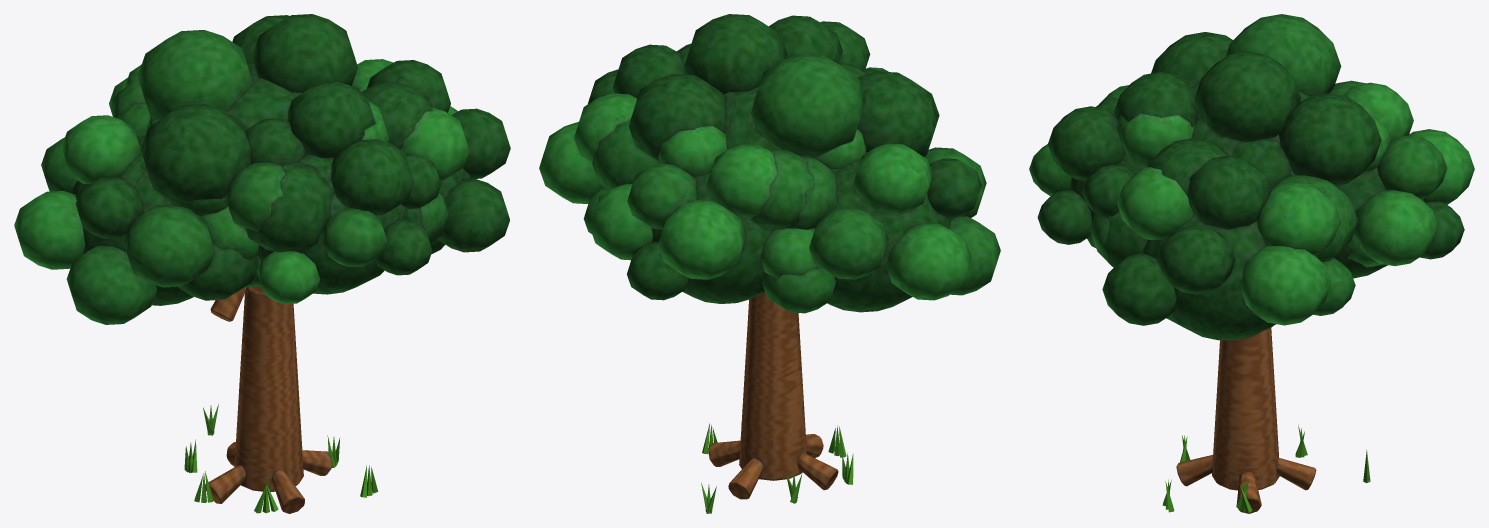
File: carob_tree.glb
3 views of the same model, side by side, from view 1: azimuth 30°, elevation 25°; view 2: azimuth 150°, elevation 25°; view 3: azimuth 270°, elevation 25° (orthographic). The views are drawn at different scales.
Visible parts, largest first — view 1: crown, carob_tree; view 2: crown, carob_tree; view 3: crown, carob_tree.
Part boxes in pixels (<box>): crown: <box>14,14,510,324</box>; carob_tree: <box>184,286,378,513</box>; crown: <box>539,14,1000,313</box>; carob_tree: <box>701,292,853,513</box>; crown: <box>1029,14,1474,340</box>; carob_tree: <box>1162,326,1370,513</box>.
Bounding box in the file's own units: 1.36 × 1.36 × 1.23.
1 material, 1 textured.
